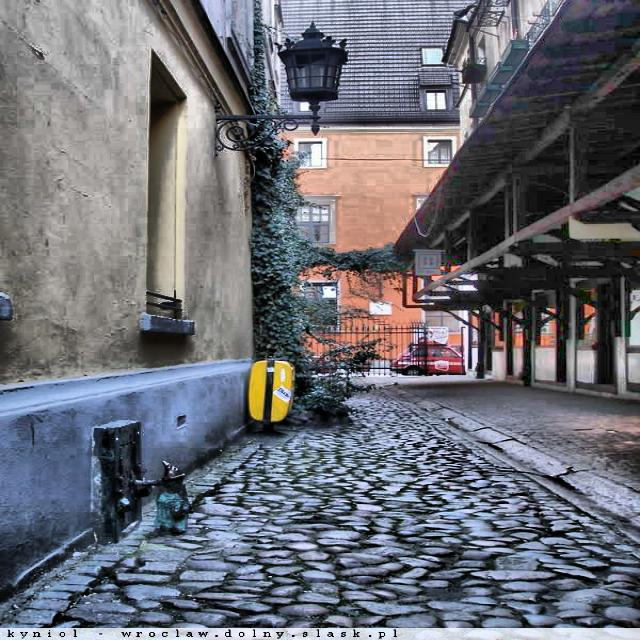Rzeznik: (137, 461, 190, 533)
